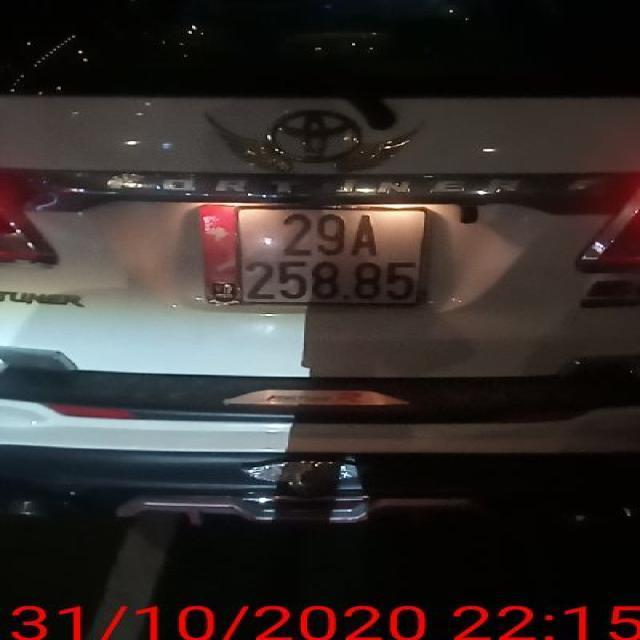bien_so_oto: (234, 200, 431, 314)
